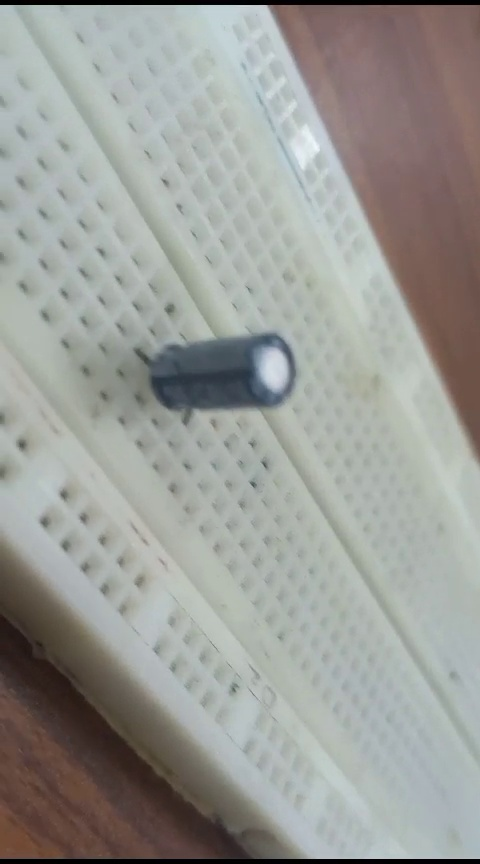capacitor: (127, 315, 302, 432)
